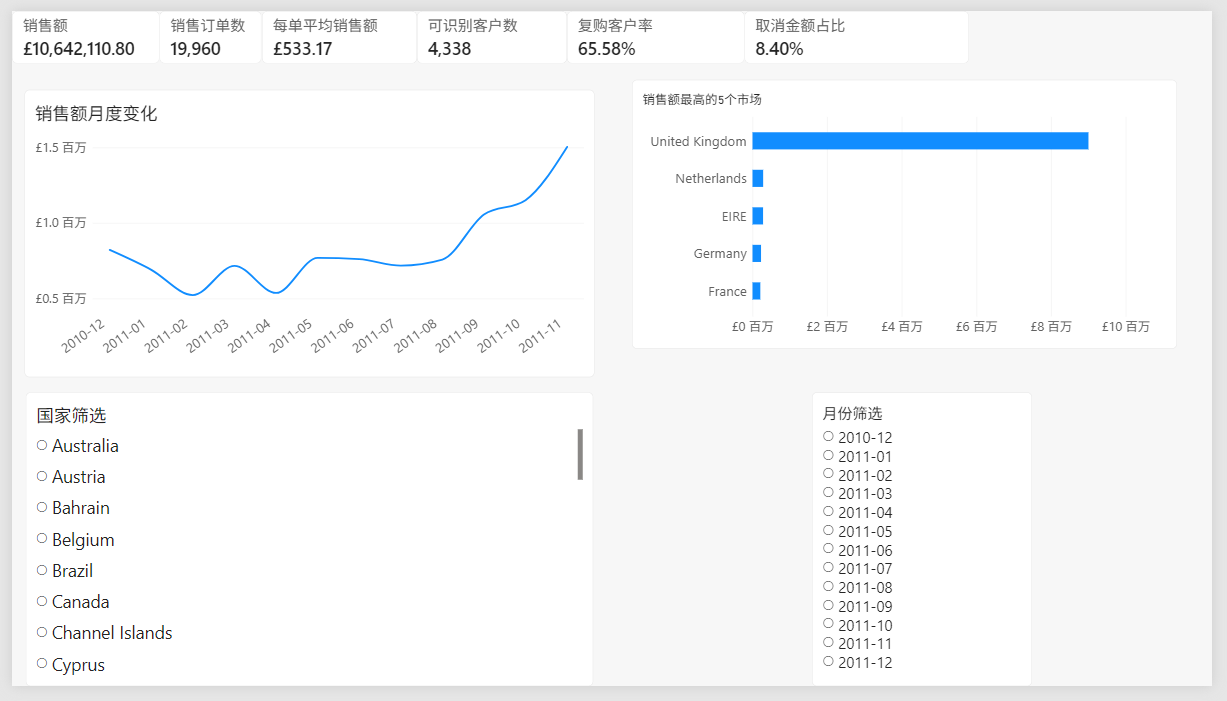

This screenshot's page, from the dashboard's own definition file:
{"tool":"powerbi","page":{"name":"01 经营总览","canvas":[1920,1080],"ordinal":0},"visuals":[{"type":"cardVisual","fields":{"Data":["transactions.Sales Amount"]},"box":[0,0,236,84.7],"z":0},{"type":"cardVisual","fields":{"Data":["transactions.Sales Orders"]},"box":[236,0,163.4,84.7],"z":1000},{"type":"cardVisual","fields":{"Data":["transactions.Identified Customers"]},"box":[578.9,0,240.1,84.7],"z":2000},{"type":"cardVisual","fields":{"Data":["transactions.Average Order Value"]},"box":[399.4,0,179.5,84.7],"z":3000},{"type":"lineChart","fields":{"Category":["DateTable.YearMonth"],"Y":["transactions.Sales Amount"]},"box":[20.2,125.1,940,415.6],"z":4000},{"type":"cardVisual","fields":{"Data":["transactions.Cancellation Amount Rate"]},"box":[1101.4,0,359.1,84.7],"z":5000},{"type":"cardVisual","fields":{"Data":["customer_rfm.Repeat Customer Rate"]},"box":[819,0,284.4,84.7],"z":6000},{"type":"barChart","fields":{"Category":["transactions.Country"],"Y":["transactions.Sales Amount"]},"box":[992.5,125.1,927.9,415.6],"z":7000},{"type":"listSlicer","fields":{"Values":["transactions.Country"]},"box":[0,574.9,907.8,504.3],"z":8000},{"type":"listSlicer","fields":{"Values":["DateTable.YearMonth"]},"box":[992.5,574.9,927.9,504.3],"z":9000}]}

Visuals, with their boxes in screenshot pixels (x1, y1, x2, y2), scaled from the page's 1920x1080 canvas onto the 1227x701 screenshot:
cardVisual - transactions.Sales Amount: bbox(0, 0, 151, 55)
cardVisual - transactions.Sales Orders: bbox(151, 0, 255, 55)
cardVisual - transactions.Identified Customers: bbox(370, 0, 523, 55)
cardVisual - transactions.Average Order Value: bbox(255, 0, 370, 55)
lineChart - DateTable.YearMonth x transactions.Sales Amount: bbox(13, 81, 614, 351)
cardVisual - transactions.Cancellation Amount Rate: bbox(704, 0, 933, 55)
cardVisual - customer_rfm.Repeat Customer Rate: bbox(523, 0, 705, 55)
barChart - transactions.Country x transactions.Sales Amount: bbox(634, 81, 1226, 351)
listSlicer - transactions.Country: bbox(0, 373, 580, 700)
listSlicer - DateTable.YearMonth: bbox(634, 373, 1226, 700)
